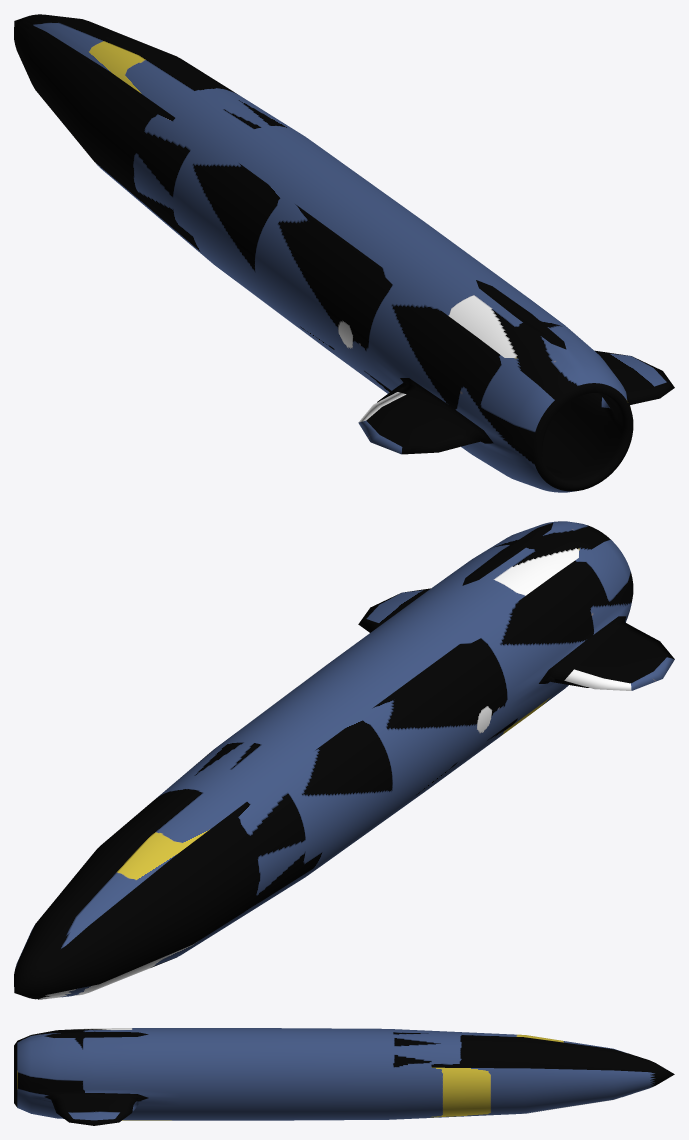
Rendered from missile.fbx.
The picture shows the model from 3 angles, top to bottom: view 1: azimuth 30°, elevation 25°; view 2: azimuth 150°, elevation 25°; view 3: azimuth 270°, elevation 25°; orthographic projection. The views are drawn at different scales.
Visible parts, largest first — view 1: Cylinder; view 2: Cylinder; view 3: Cylinder.
Part boxes in pixels (left/top/right/bottom): Cylinder: left=14, top=14, right=674, bottom=492; Cylinder: left=14, top=521, right=674, bottom=999; Cylinder: left=14, top=1028, right=674, bottom=1125.
Size of the model in its own units: 370 by 176 by 1251.
